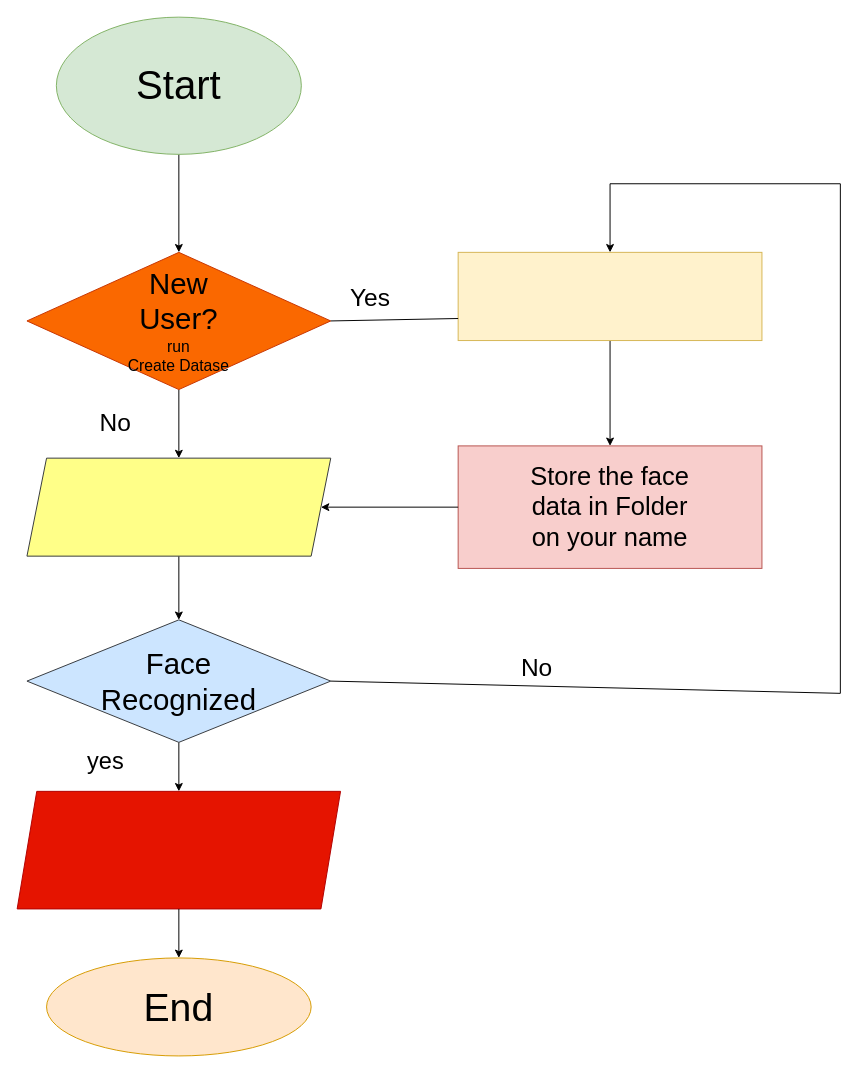
This 865x1073 diagram has some shape labels left out. The shapes that lost their labels are listed below. From the top down, each one's box as (x1, y1, x2, y2) in pixels, then its label:
(457, 251, 762, 341): Give Your photograph
(26, 457, 331, 556): Recognize the Face run trace recognize
(16, 790, 341, 909): Stored in CSV file with Registration Number & Date Time of Entry
